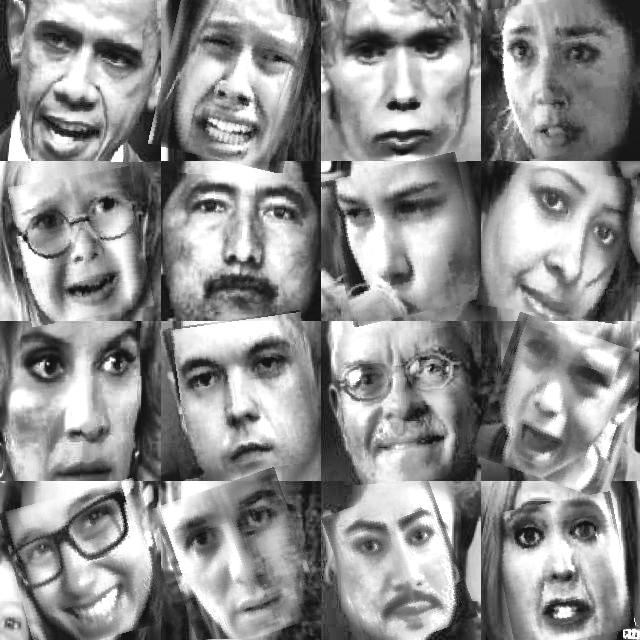angry: (481, 320, 640, 490), (329, 158, 481, 321), (12, 2, 156, 161), (332, 486, 467, 640), (495, 496, 630, 640)
fear: (6, 328, 152, 481)
happy: (6, 484, 167, 640), (336, 328, 470, 483)
neutral: (163, 475, 313, 640), (165, 314, 317, 476), (480, 164, 632, 320), (325, 2, 470, 161), (171, 176, 312, 316)
sad: (156, 0, 309, 166), (485, 0, 640, 158), (13, 171, 149, 323)
